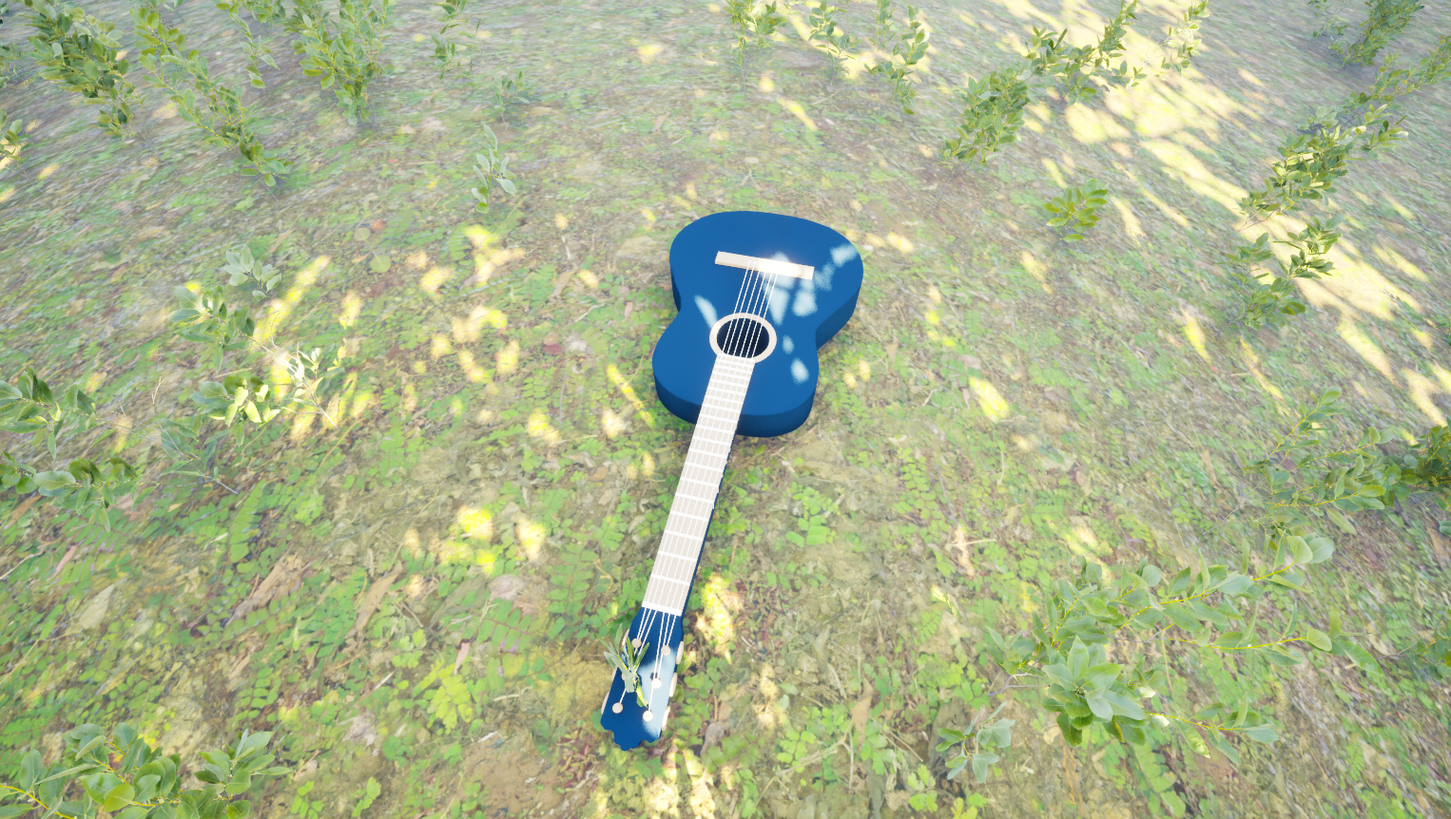Guitar: (476, 198, 871, 796)
